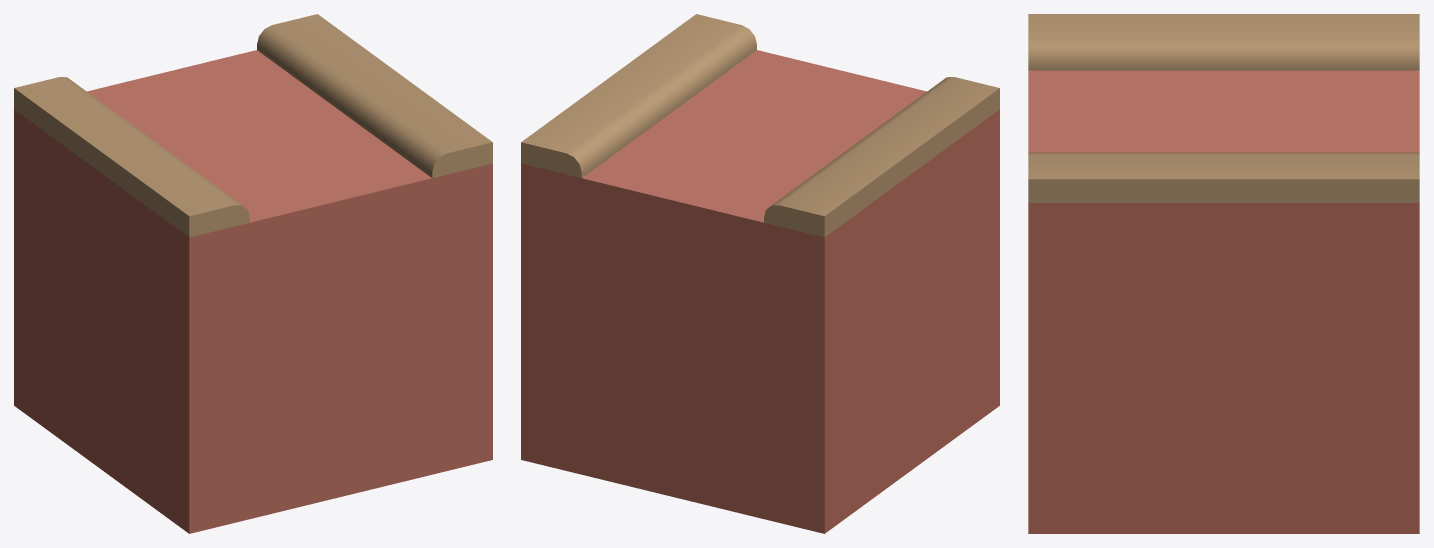
Rendered from tile-road3.glb.
3 views of the same model, side by side, from view 1: azimuth 30°, elevation 25°; view 2: azimuth 150°, elevation 25°; view 3: azimuth 270°, elevation 25° (orthographic). The views are drawn at different scales.
Visible parts, largest first — view 1: Tile_Road_Solo; view 2: Tile_Road_Solo; view 3: Tile_Road_Solo.
Part boxes in pixels (x1,y1,x2,y2): Tile_Road_Solo: [14, 14, 492, 533]; Tile_Road_Solo: [521, 14, 999, 533]; Tile_Road_Solo: [1028, 14, 1419, 533].
Bounding box in the file's own units: 2 × 2 × 2.
Materials: 1 (1 with a texture image).
